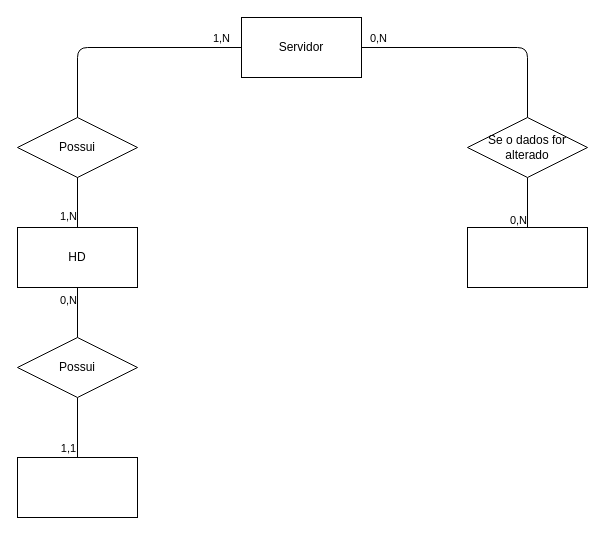
This 605x535 diagram has some shape labels left out. Each missing label, with the centre of its shape:
"Log de alterações" belongs at (x=527, y=257).
"Metricas diária" belongs at (x=77, y=487).
